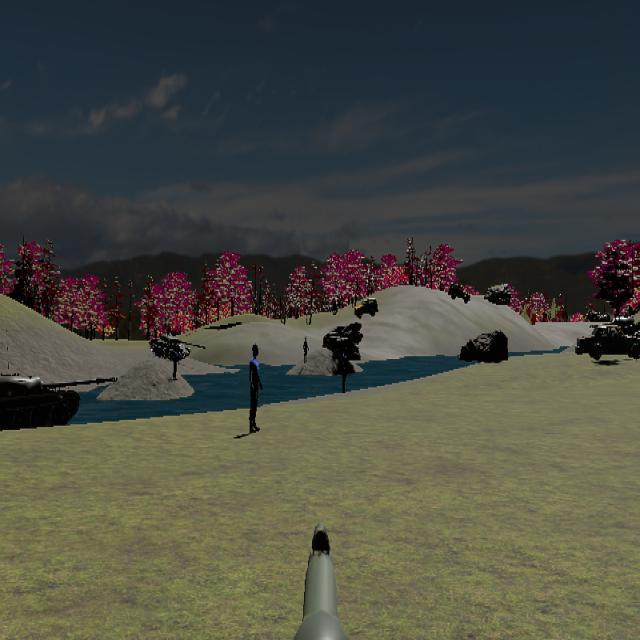Tank: (0, 368, 119, 433), (150, 332, 206, 363)
car: (575, 324, 638, 360)
